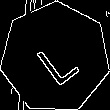L_NW: (28, 28, 82, 87)
